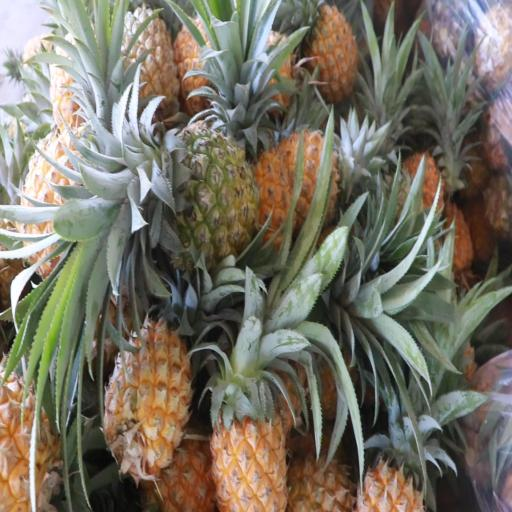Pineapple - v8 v1: (17, 127, 136, 283), (106, 312, 192, 486), (210, 328, 291, 512), (299, 4, 367, 108)
